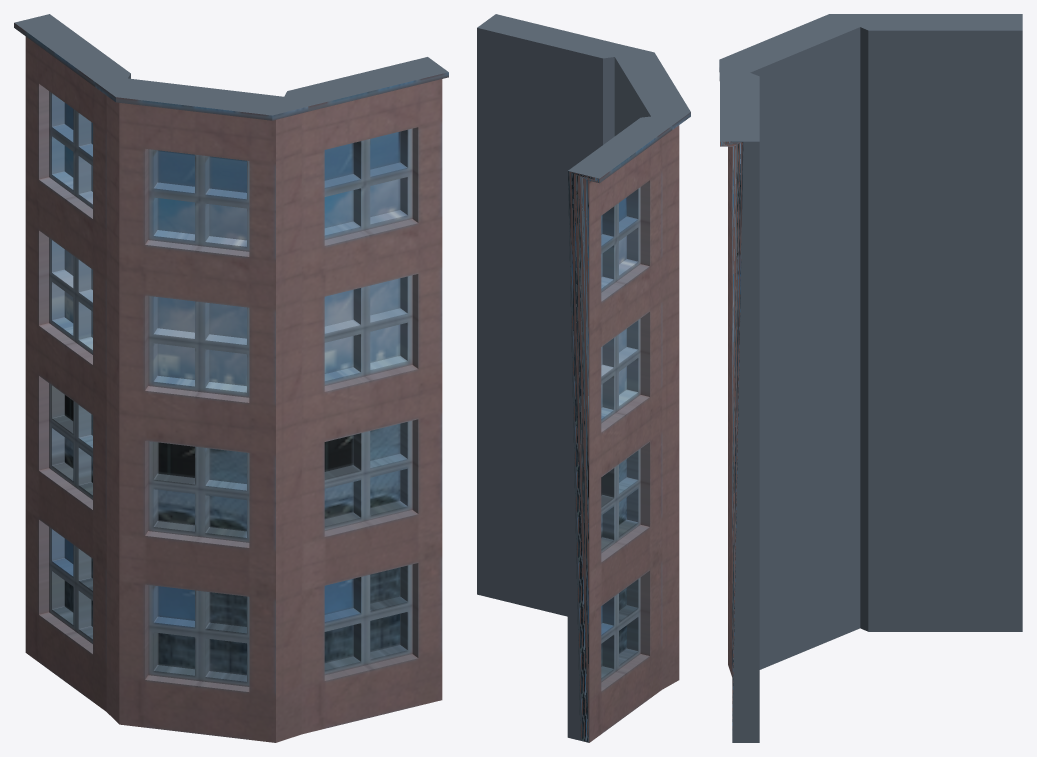
The model's file is facade_corner3.fbx.
3 renders of one model, left to right at view 1: azimuth 30°, elevation 25°; view 2: azimuth 150°, elevation 25°; view 3: azimuth 270°, elevation 25°, orthographic. The views are drawn at different scales.
Visible parts, largest first — view 1: facade_corner3; view 2: facade_corner3; view 3: facade_corner3.
Boxes of the visible parts, x1,y1,x2,y2 form: facade_corner3: (14, 14, 448, 742); facade_corner3: (477, 14, 690, 742); facade_corner3: (719, 14, 1022, 742).
Size of the model in its own units: 30.91 by 67.89 by 31.06.
2 materials, 2 textured.
